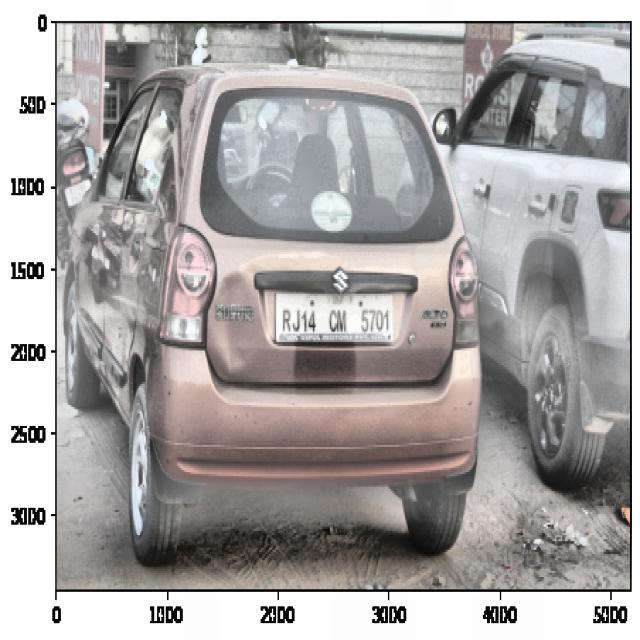license_plate: (277, 298, 394, 346)
